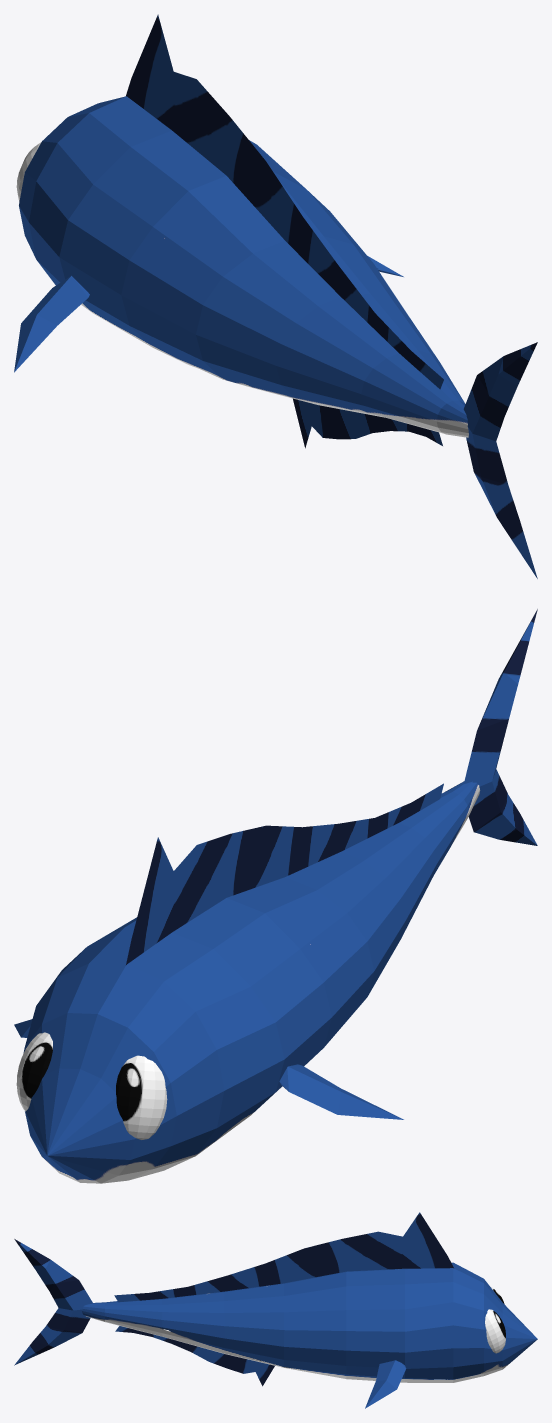
File: mahi-mahi.obj
3 views of the same model, one above another, from view 1: azimuth 30°, elevation 25°; view 2: azimuth 150°, elevation 25°; view 3: azimuth 270°, elevation 25° (orthographic). The views are drawn at different scales.
Parts seen in each view (by area): view 1: Cube.002; view 2: Cube.002, Sphere; view 3: Cube.002, Sphere.
Boxes of the visible parts, x1,y1,x2,y2 form: Cube.002: [14, 14, 537, 578]; Cube.002: [14, 609, 537, 1183]; Sphere: [16, 1032, 167, 1139]; Cube.002: [14, 1212, 537, 1408]; Sphere: [485, 1286, 505, 1353].
Bounding box in the file's own units: 1.98 × 1.58 × 4.3.
